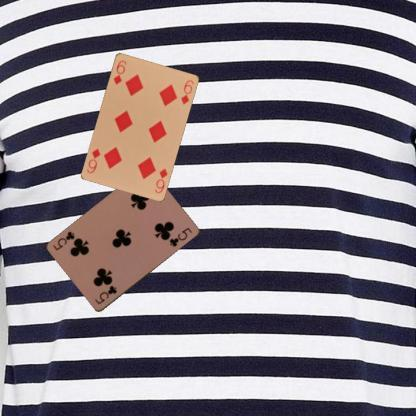5c: (92, 283, 118, 306)
6d: (111, 57, 128, 86), (152, 166, 169, 194)
